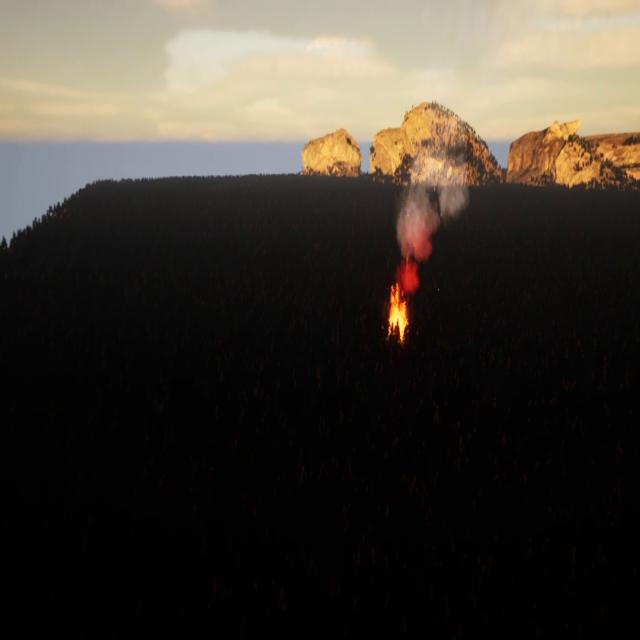fire: (388, 286, 409, 339)
smoke: (394, 124, 466, 298)
